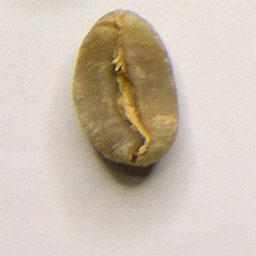premium: (69, 5, 183, 173)
